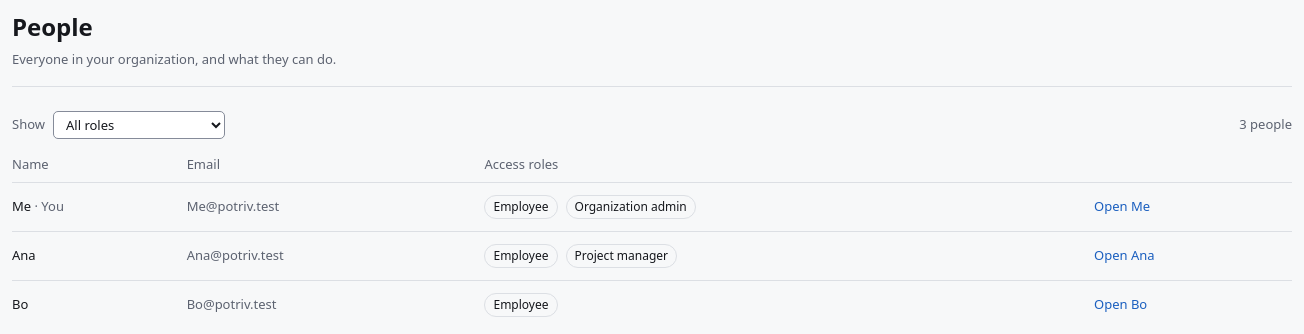
it: organization people › filters locally, and says how many of how many
Select "Project manager" in the dropdown labelled "Show": (139, 124) [53, 110, 225, 138]
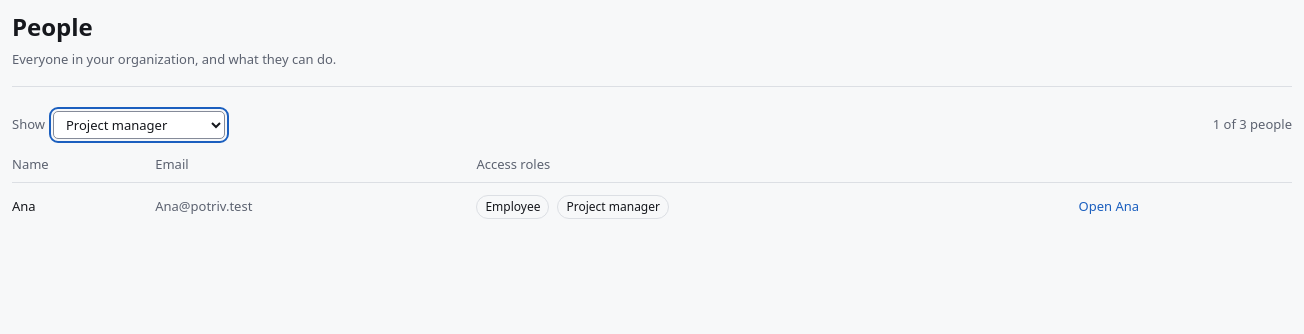
Check: the link "Open Ana" is shown, box [1078, 197, 1139, 215]
Check: the text "1 of 3 people" is shown, box [1213, 115, 1292, 134]
Check: the link "Open Bo" is gone
